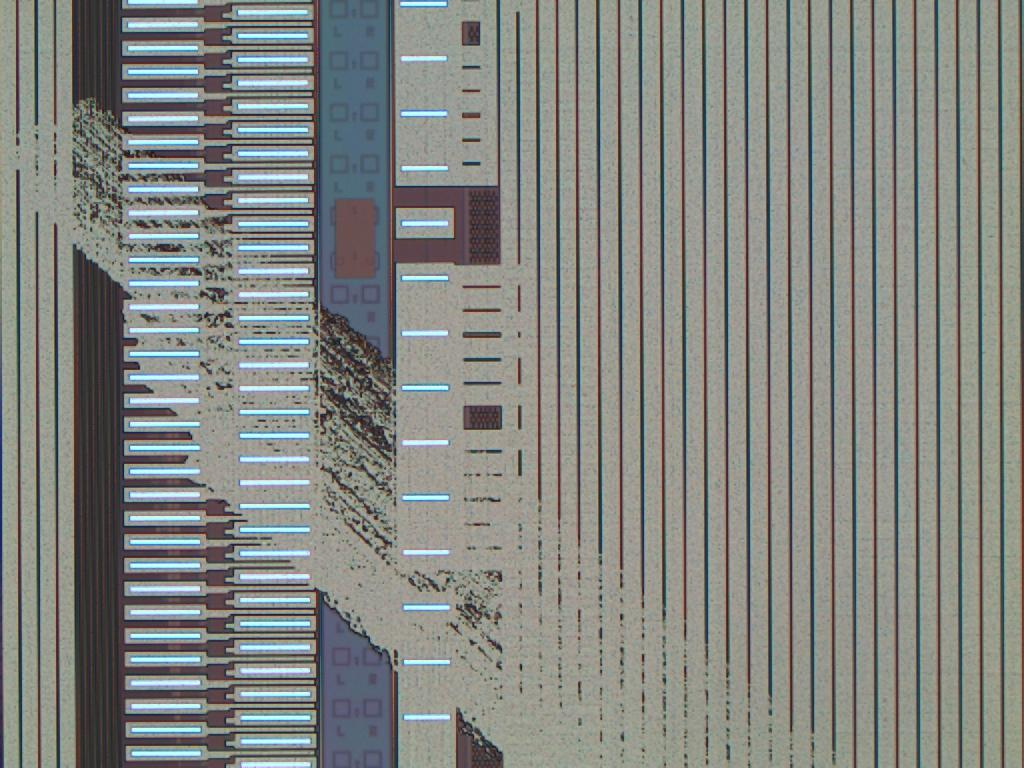BLOCK ETCH: (2, 93, 853, 768)
